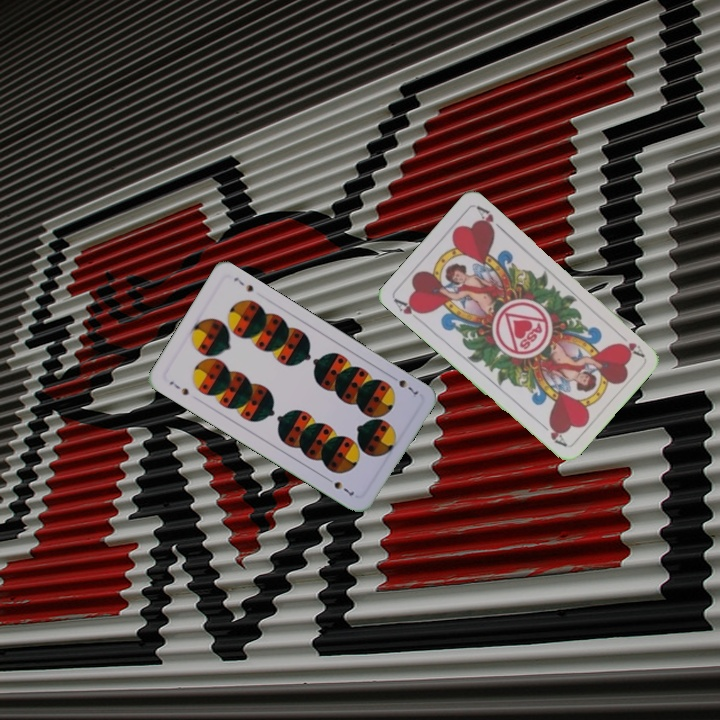HA: (390, 294, 427, 325), (613, 328, 646, 360)
S7: (386, 371, 421, 399), (165, 377, 191, 398)
